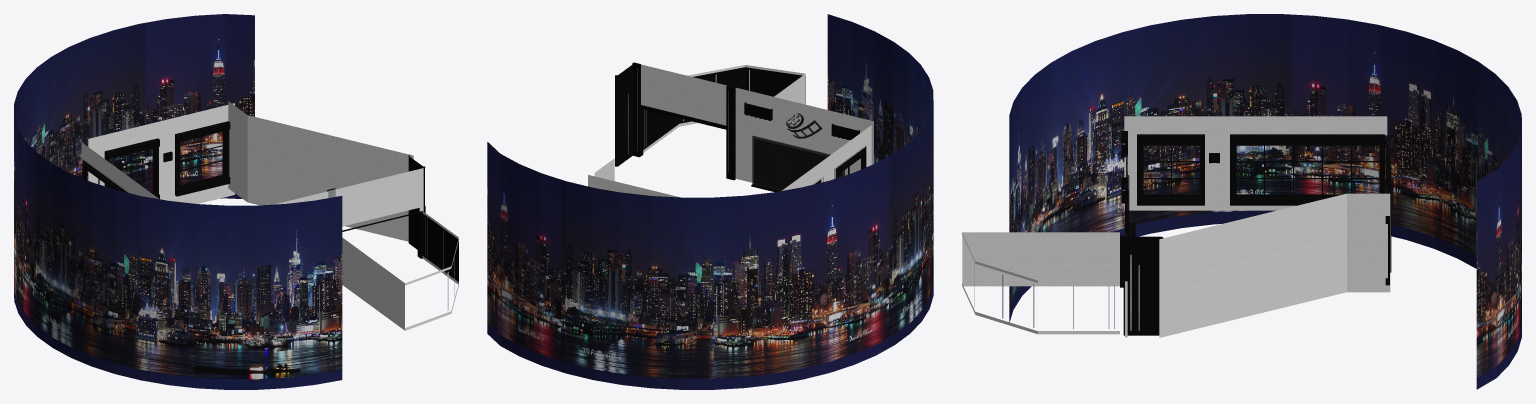
The model's file is Paredes.fbx.
3 renders of one model, left to right at view 1: azimuth 30°, elevation 25°; view 2: azimuth 150°, elevation 25°; view 3: azimuth 270°, elevation 25°, orthographic. The views are drawn at different scales.
Parts seen in each view (by area): view 1: enviro, wallRight, wallfront, entrance_walls, wall_back, wall_left, column004; view 2: enviro, wall_back, entrance_walls, back_screen_big, wall_left, column004, wallfront; view 3: enviro, wallRight, wall_left, entrance_walls, column004, wallfront.
Boxes of the visible parts, x1,y1,x2,y2 form: enviro: [14, 14, 342, 389]; wallRight: [228, 101, 413, 241]; wallfront: [88, 103, 234, 203]; entrance_walls: [327, 166, 458, 330]; wall_back: [274, 168, 423, 226]; wall_left: [81, 142, 159, 199]; column004: [408, 154, 424, 249]; enviro: [487, 14, 933, 389]; wall_back: [641, 64, 873, 182]; entrance_walls: [632, 62, 805, 180]; back_screen_big: [751, 135, 844, 191]; wall_left: [782, 125, 871, 190]; column004: [615, 64, 633, 166]; wallfront: [588, 175, 680, 197]; enviro: [1009, 14, 1521, 389]; wallRight: [1159, 193, 1390, 337]; wall_left: [1124, 116, 1387, 210]; entrance_walls: [962, 183, 1127, 337]; column004: [1123, 236, 1163, 335]; wallfront: [1385, 147, 1391, 285].
Size of the model in its own units: 29.66 by 16.22 by 39.48.
Materials: 11 (4 with a texture image).
